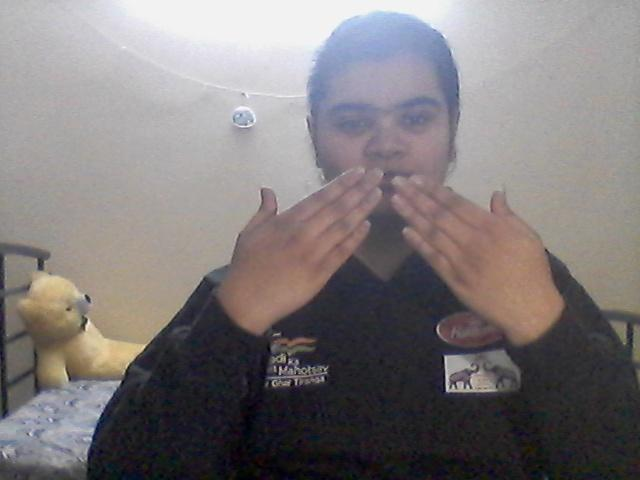thank you: (211, 160, 558, 338)
